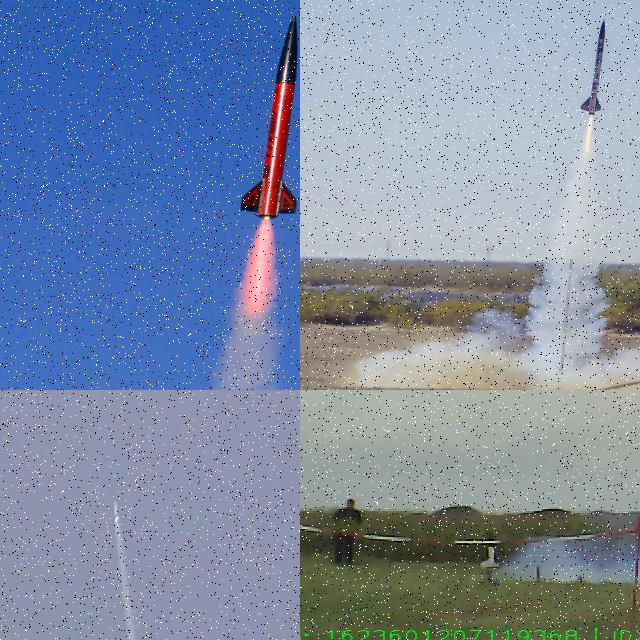Rocket: (238, 14, 300, 220), (580, 18, 606, 116), (479, 529, 501, 569), (114, 500, 120, 522)
